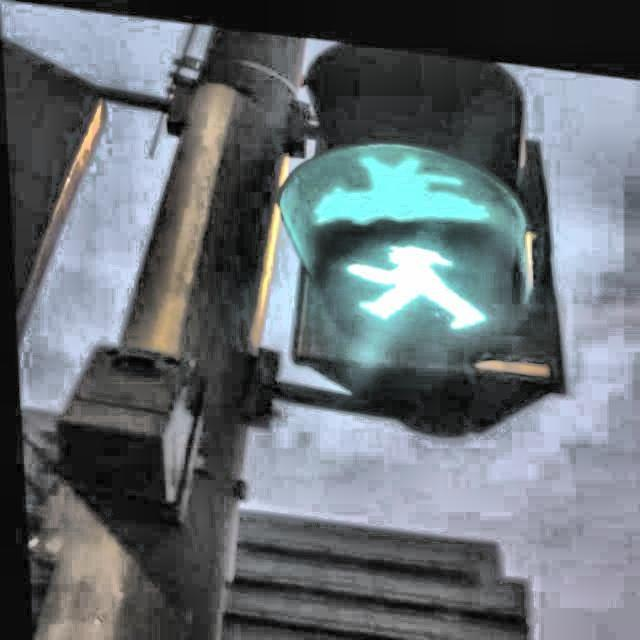semaforo pedestre: (262, 31, 606, 490)
